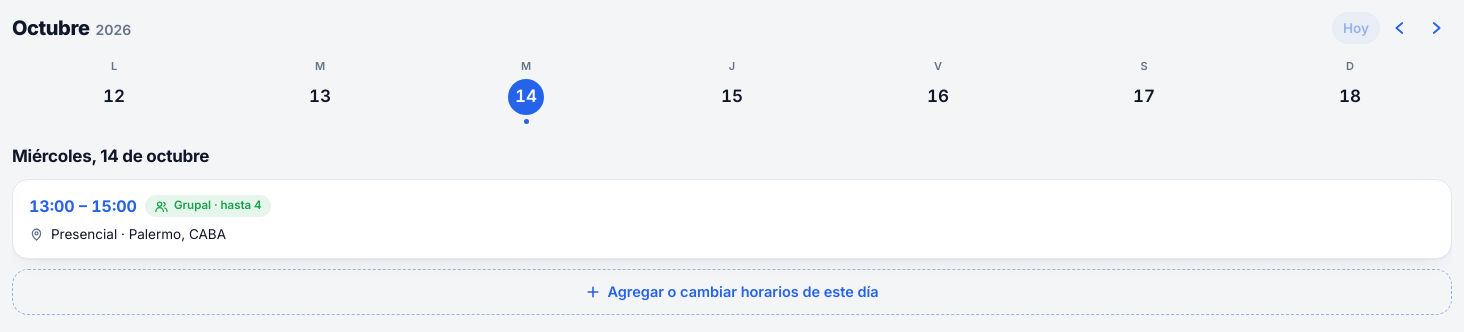
it: WeekCalendar en el teléfono › elegir otro día de la tira muestra los de ese día
Click the button named "Jueves, 15 de octubre": (732, 90) [630,54,834,126]
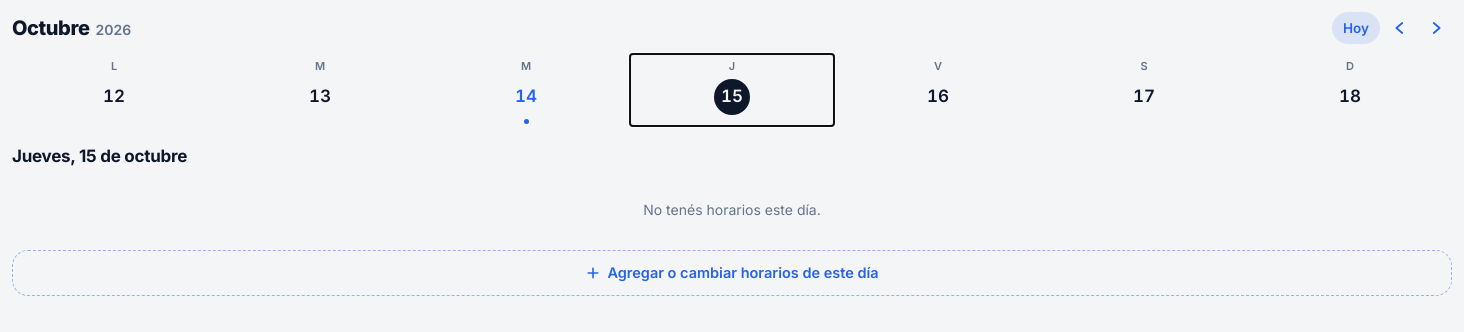
Check: the heading "Jueves, 15 de octubre" is shown, box [12,144,187,169]
Check: the text "No tenés horarios este día." is shown, box [643,201,821,218]
